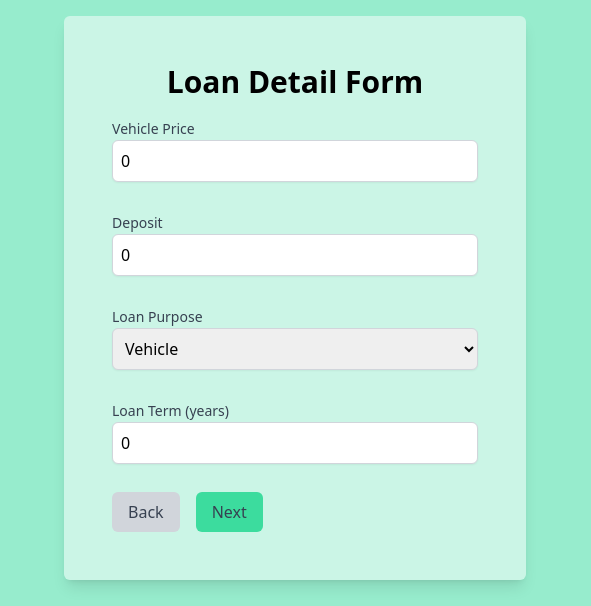
LoanDetailsForm Component › should show validation errors for invalid data
The image size is (591, 606).
Step 1. Type "1000" into the number field named "vehiclePrice" below "Vehicle Price" → (295, 161), box [112,140,478,182]
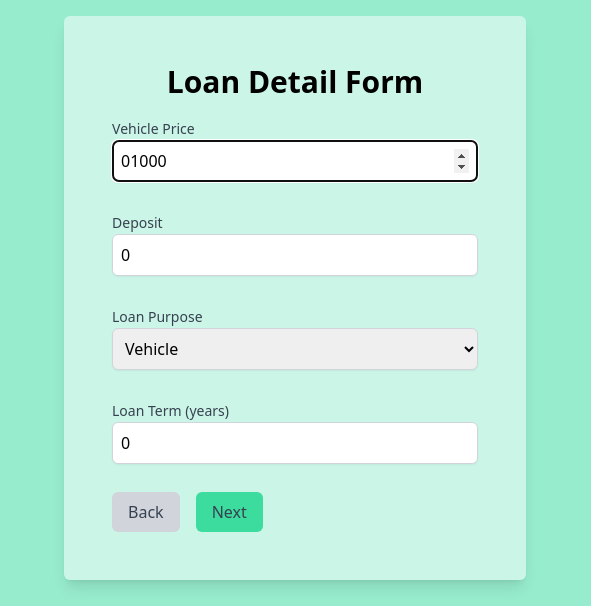
Step 2. Type "2000" into the number field named "deposit" below "Deposit" → (295, 255), box [112,234,478,276]
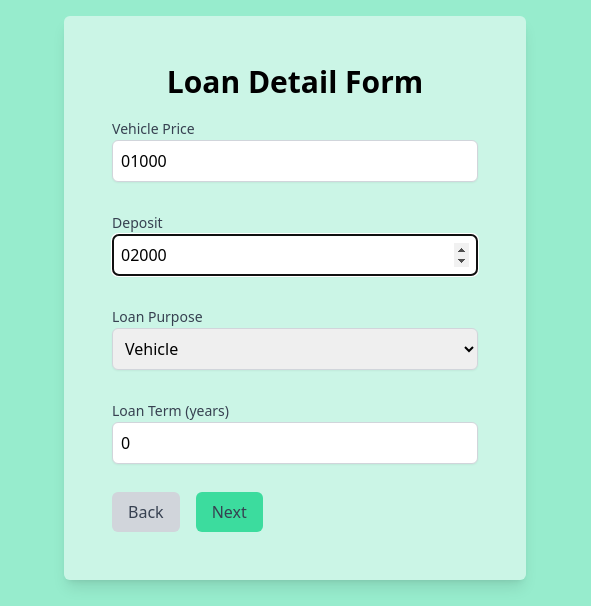
Step 3. Type "8" into the number field named "loanTerm" below "Loan Term (years)" → (295, 443), box [112,422,478,464]
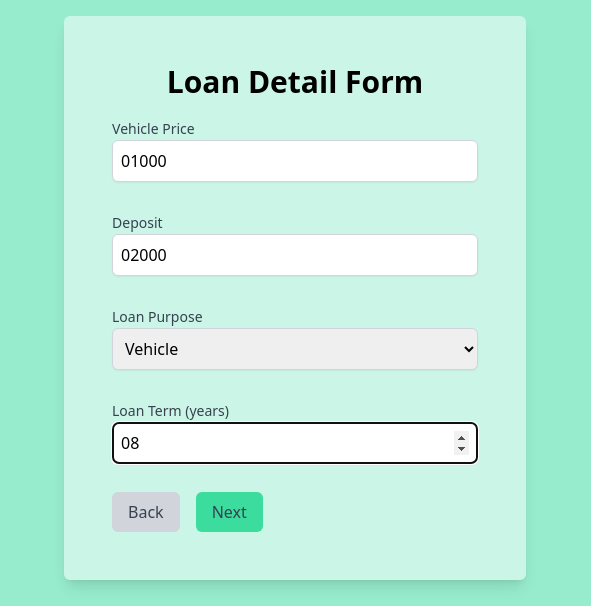
Step 4. Click the submit button → (230, 512), box [196,492,263,532]
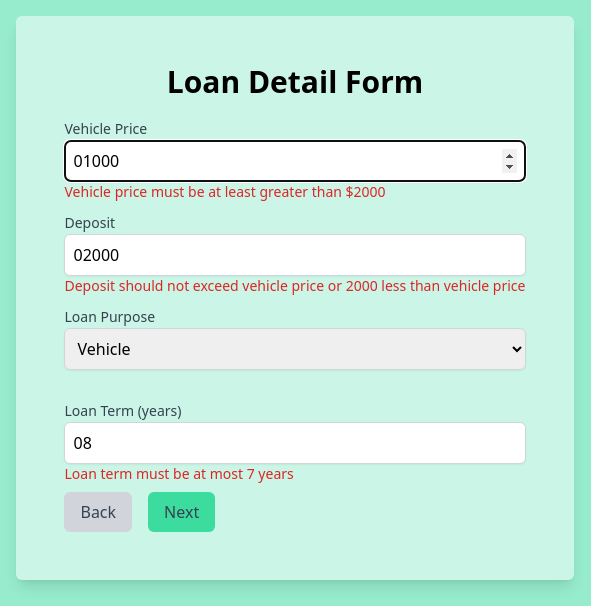
Check: the text "Vehicle price must be at least greater than $2000" is shown, box [64,182,386,201]
Check: the text "Deposit should not exceed vehicle price or 2000 less than vehicle price" is shown, box [64,276,526,296]
Check: the text "Loan term must be at most 7 years" is shown, box [64,464,294,483]
